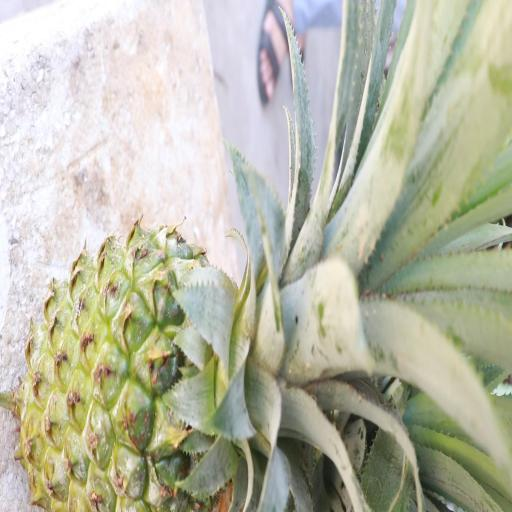------------------------------: (24, 240, 305, 512)
